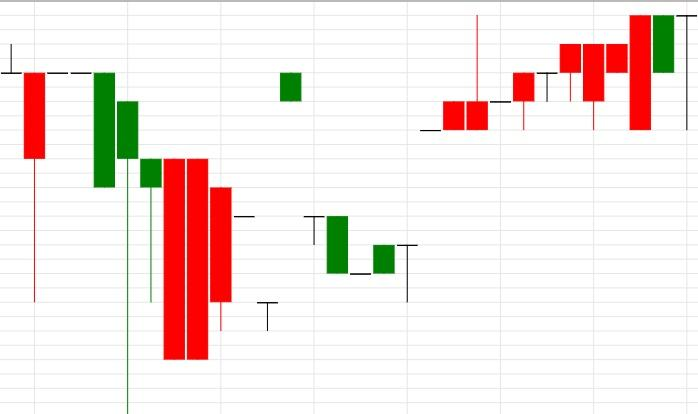hammer_rise: (0, 43, 163, 414), (0, 43, 139, 414)
shooting_star_fall: (349, 14, 489, 303)
